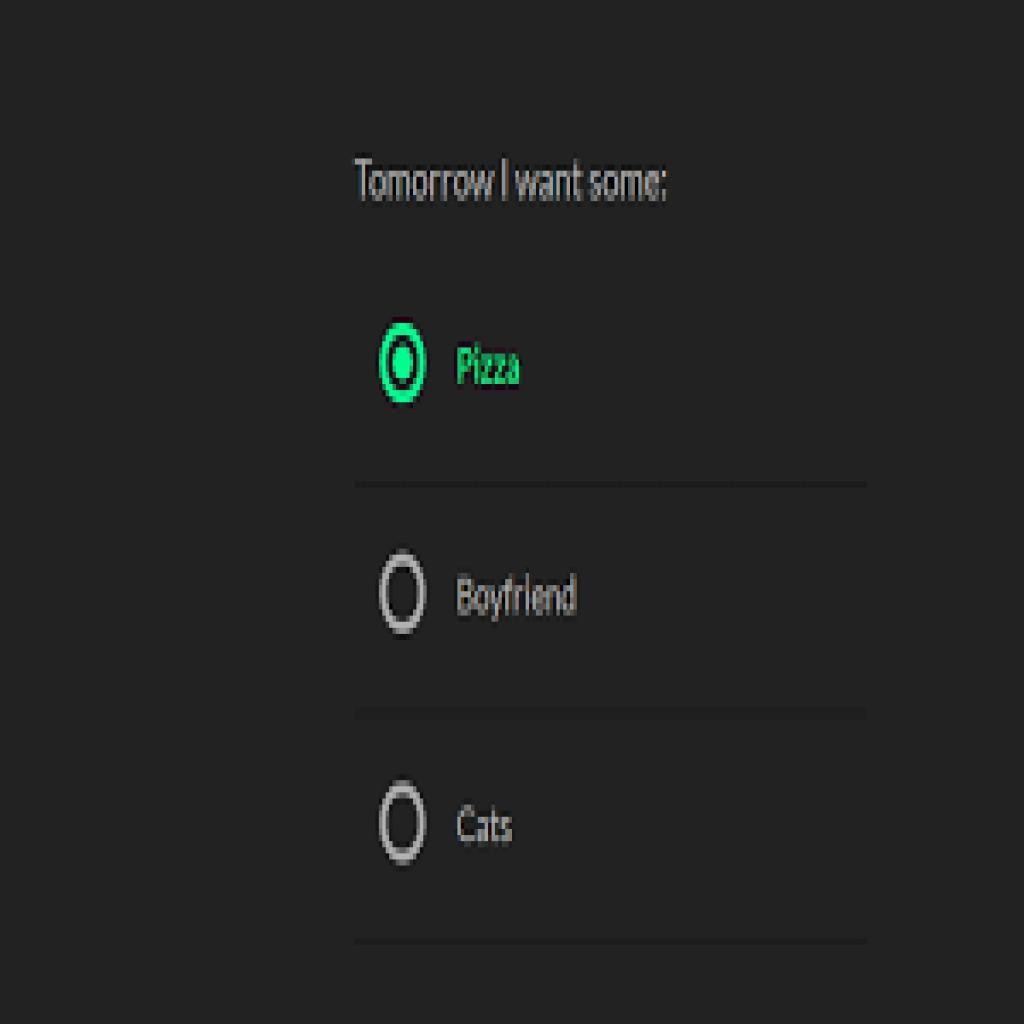label: (352, 151, 677, 213), (452, 571, 586, 621), (454, 344, 527, 392), (454, 801, 522, 849)
radio: (380, 782, 427, 867), (381, 324, 427, 406), (380, 554, 427, 633)
